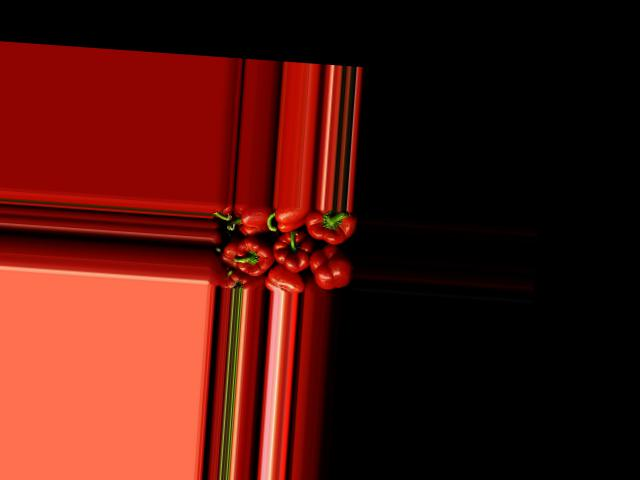bell_pepper: (265, 267, 307, 292)
